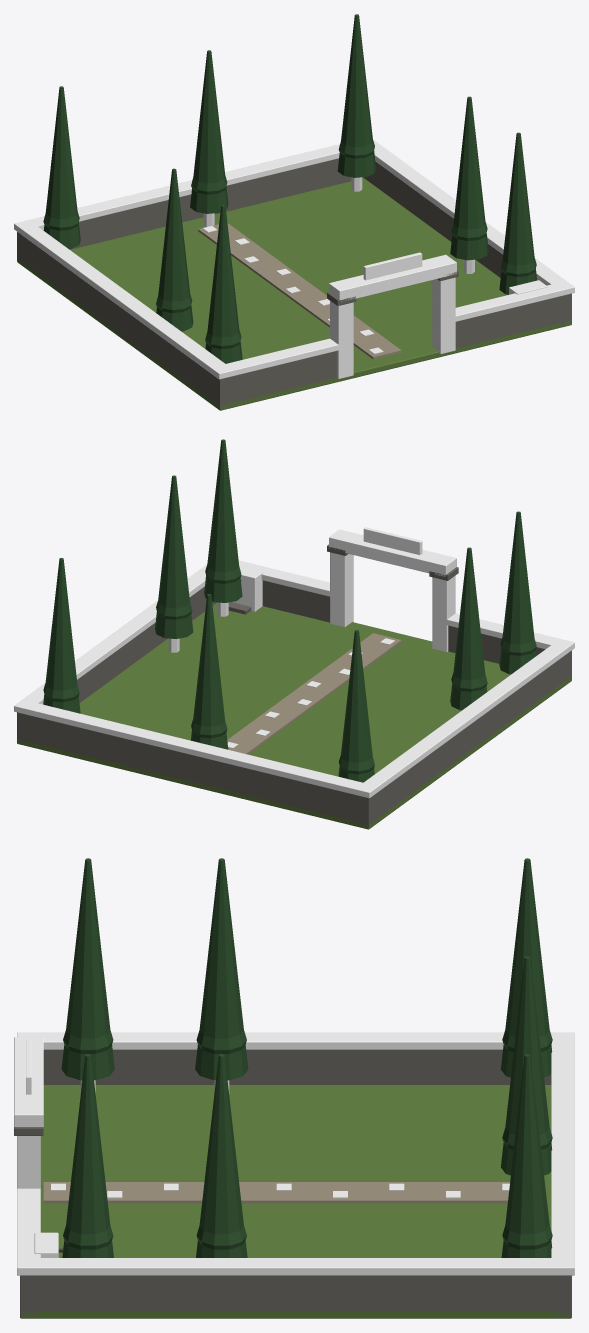
The model's file is mezarlik.glb.
3 renders of one model, top to bottom at view 1: azimuth 30°, elevation 25°; view 2: azimuth 150°, elevation 25°; view 3: azimuth 270°, elevation 25°, orthographic. The views are drawn at different scales.
Parts seen in each view (by area): view 1: Cone; view 2: Cone; view 3: Cone.
Boxes of the visible parts, x1,y1,x2,y2 form: Cone: [14, 14, 574, 410]; Cone: [14, 439, 574, 829]; Cone: [14, 858, 574, 1318].
Bounding box in the file's own units: 0.9947 × 0.4815 × 1.
